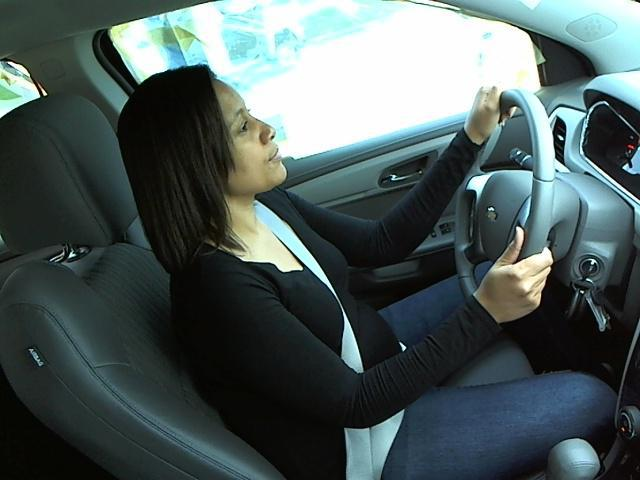c0 - Safe Driving: (112, 60, 559, 409)
